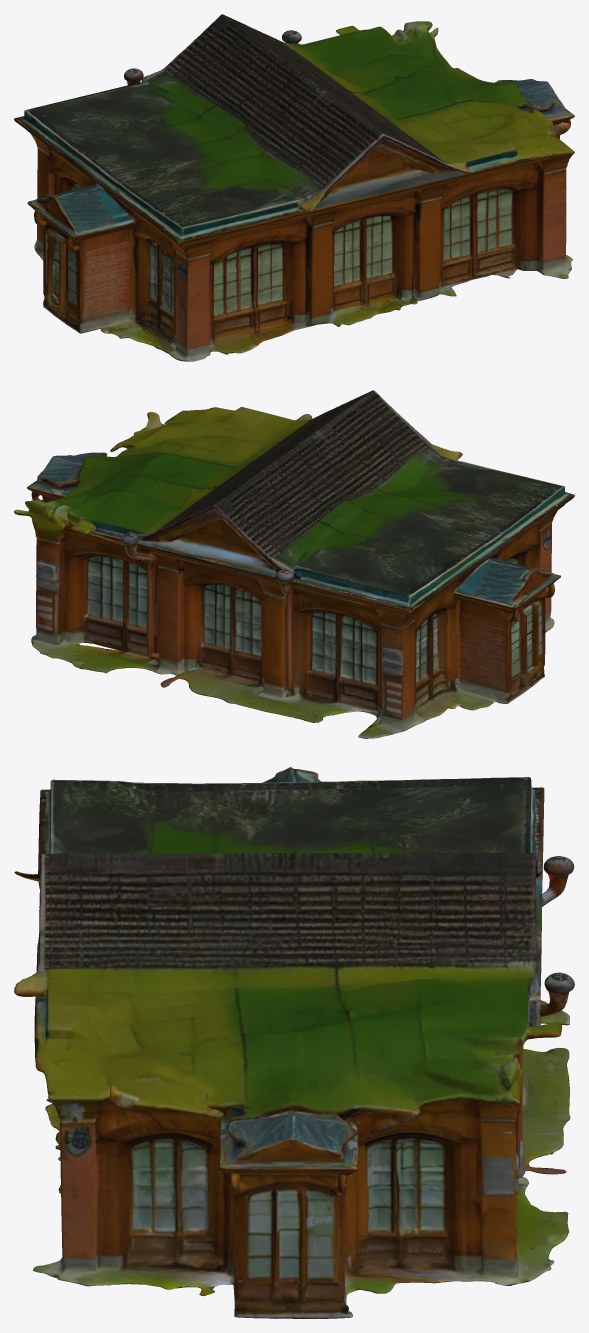
3 views of the same model, one above another, from view 1: azimuth 30°, elevation 25°; view 2: azimuth 150°, elevation 25°; view 3: azimuth 270°, elevation 25° (orthographic). The views are drawn at different scales.
Parts seen in each view (by area): view 1: tripo_node_67bdbb5d-5582-46c4-b200-4805589a71a2; view 2: tripo_node_67bdbb5d-5582-46c4-b200-4805589a71a2; view 3: tripo_node_67bdbb5d-5582-46c4-b200-4805589a71a2.
Part boxes in pixels (x1,y1,x2,y2): tripo_node_67bdbb5d-5582-46c4-b200-4805589a71a2: (14, 14, 574, 361); tripo_node_67bdbb5d-5582-46c4-b200-4805589a71a2: (14, 390, 574, 738); tripo_node_67bdbb5d-5582-46c4-b200-4805589a71a2: (14, 767, 574, 1318).
Size of the model in its own units: 1 by 0.3653 by 0.6366.
Materials: 1 (1 with a texture image).
